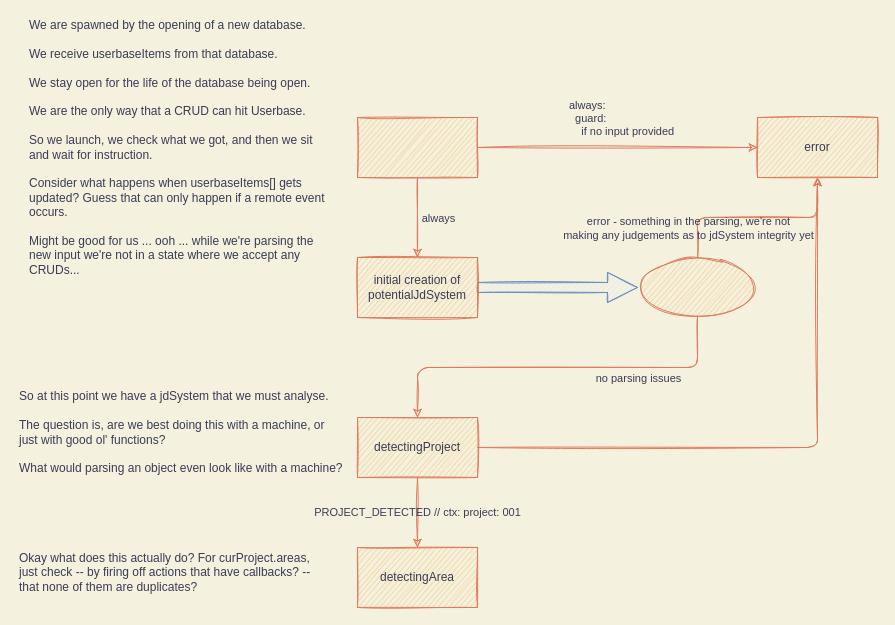
This 895x625 diagram has some shape labels left out. Each missing label, with the centre of its shape:
"init" belongs at point (417, 147).
"userbaseItems ToJdSystem()" belongs at point (697, 287).
